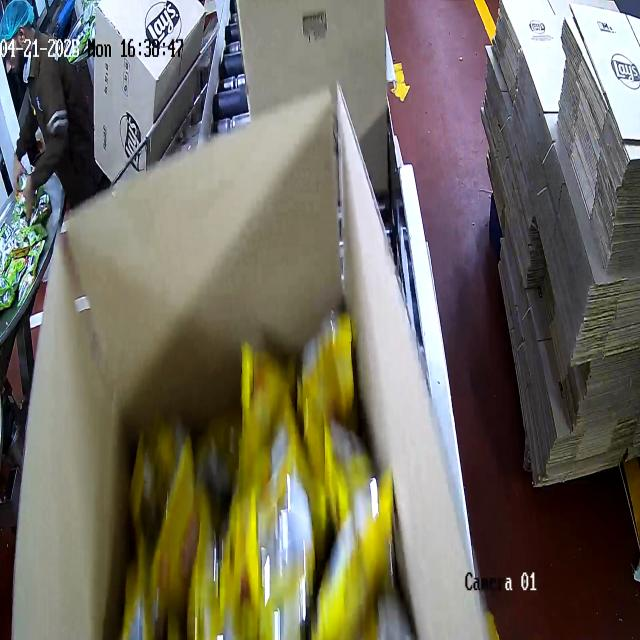SALTED: (130, 354, 387, 640)
